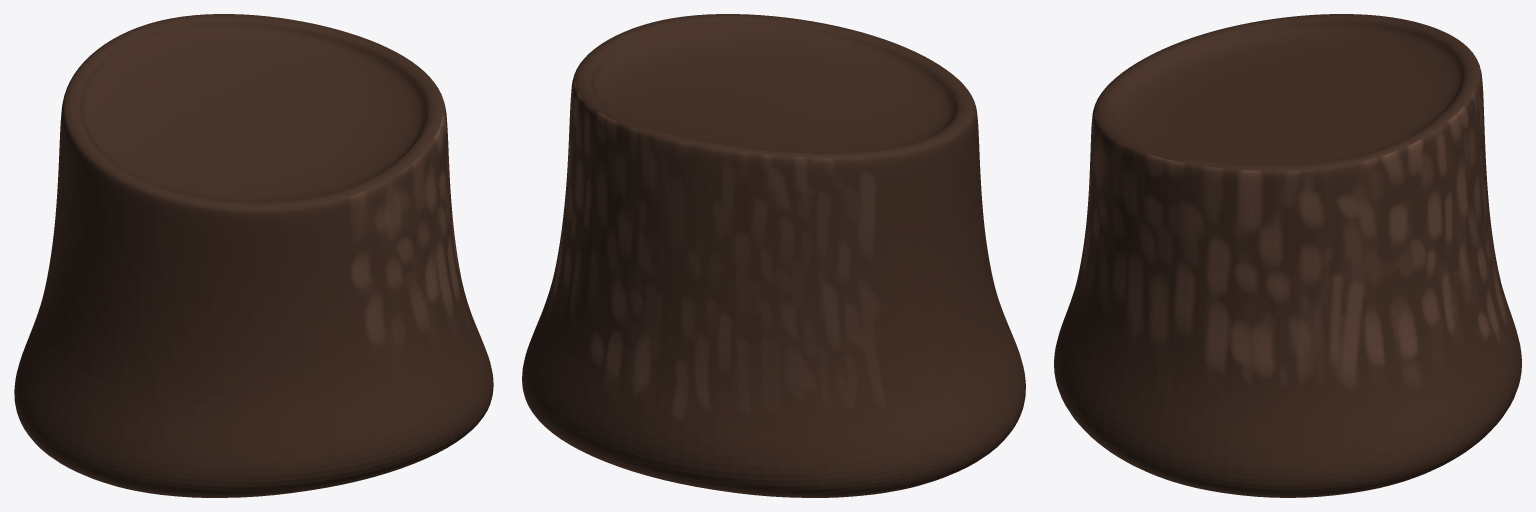
File: oak_tree_stump.fbx
3 renders of one model, left to right at view 1: azimuth 30°, elevation 25°; view 2: azimuth 150°, elevation 25°; view 3: azimuth 270°, elevation 25°, orthographic. The views are drawn at different scales.
Visible parts, largest first — view 1: Cube; view 2: Cube; view 3: Cube.
Boxes of the visible parts, x1,y1,x2,y2 form: Cube: [14, 14, 493, 497]; Cube: [522, 14, 1025, 497]; Cube: [1054, 14, 1521, 497].
Bounding box in the file's own units: 1115 × 862 × 1059.
1 material, 1 textured.
